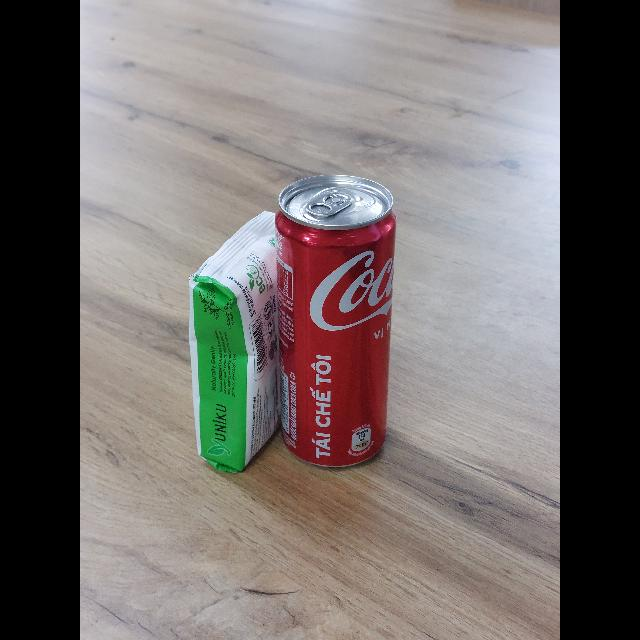coca_cola: (275, 176, 396, 467)
khan_giay: (189, 213, 279, 473)
